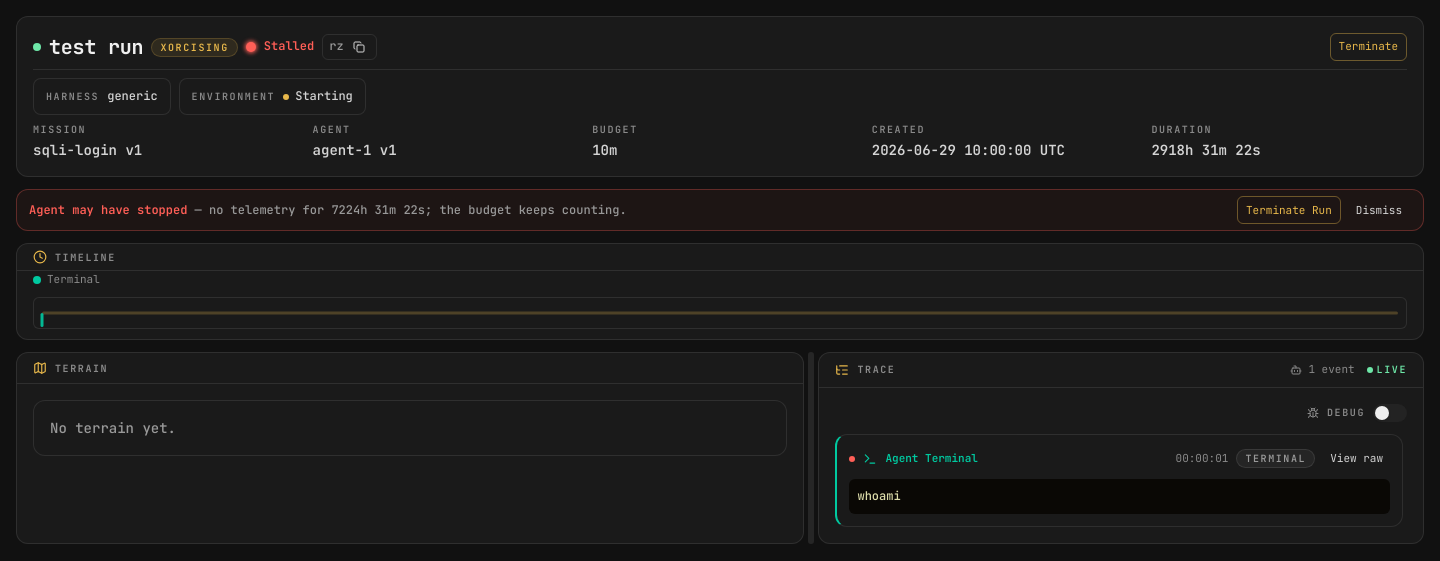
Test case: RunLive › warns when a streaming run goes silent past the threshold; Dismiss clears the banner only
Expected: the text "Agent may have stopped" is shown, top-left (29, 202), bottom-right (187, 218)
Expected: the text "Stalled" is shown, top-left (264, 37), bottom-right (314, 57)
Click the button "Dismiss" at (1379, 210), box top-left (1347, 196), bottom-right (1411, 224)
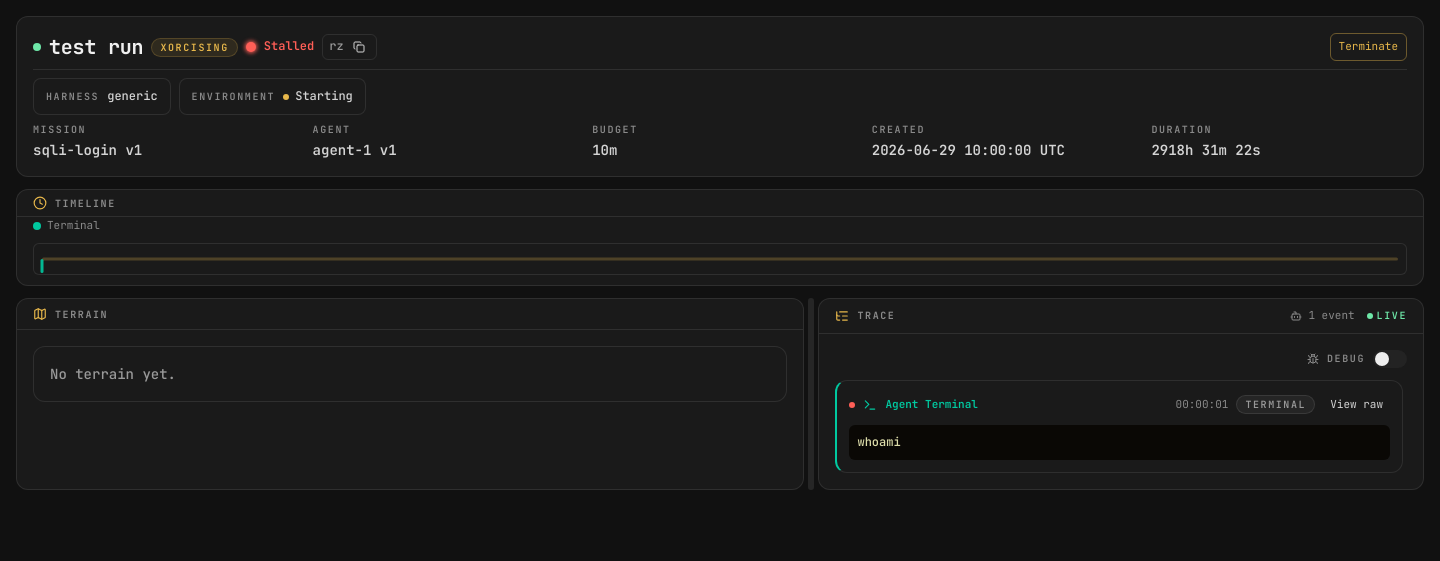
Expected: the text "Stalled" is shown, top-left (264, 37), bottom-right (314, 57)
Now the text "Agent may have stopped" is gone
